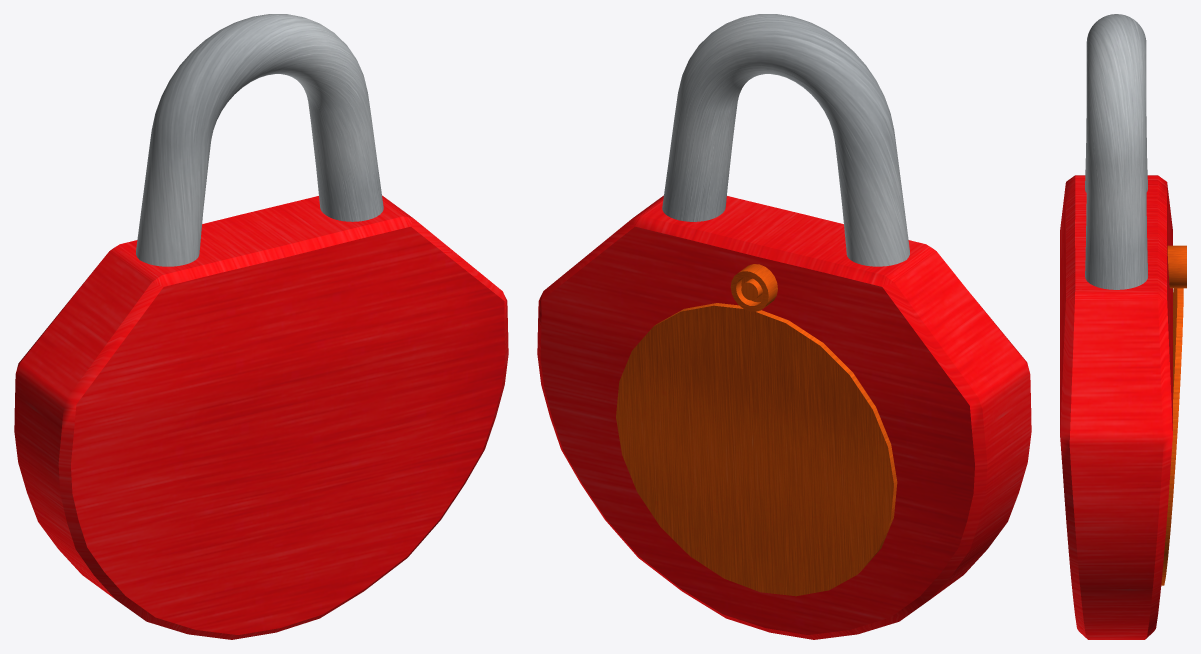
The model's file is lock_2.fbx.
3 views of the same model, side by side, from view 1: azimuth 30°, elevation 25°; view 2: azimuth 150°, elevation 25°; view 3: azimuth 270°, elevation 25° (orthographic). The views are drawn at different scales.
Visible parts, largest first — view 1: pCube2, pTorus2; view 2: pCube2, pDisc1, pTorus2, pCylinder1; view 3: pCube2, pTorus2, pDisc1, pCylinder1.
Part boxes in pixels (<box>): pCube2: <box>14,195,508,639</box>; pTorus2: <box>136,14,383,266</box>; pCube2: <box>537,195,1031,639</box>; pDisc1: <box>616,303,897,596</box>; pTorus2: <box>662,14,909,266</box>; pCylinder1: <box>730,264,777,311</box>; pCube2: <box>1060,175,1172,639</box>; pTorus2: <box>1085,14,1147,289</box>; pDisc1: <box>1161,288,1183,585</box>; pCylinder1: <box>1167,245,1186,288</box>.
Bounding box in the file's own units: 2.15 × 2.75 × 0.5353.
